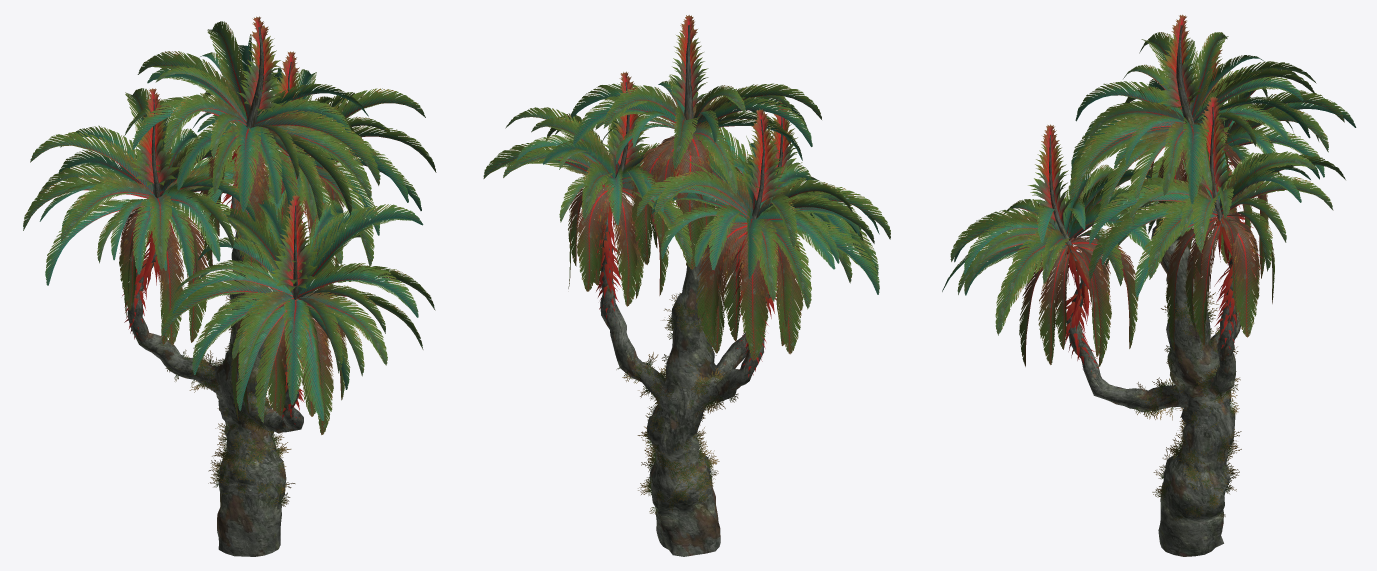
File: Plant - Alien Plant 12-CmQEIoSL.glb
The picture shows the model from 3 angles, left to right: view 1: azimuth 30°, elevation 25°; view 2: azimuth 150°, elevation 25°; view 3: azimuth 270°, elevation 25°; orthographic projection.
Parts seen in each view (by area): view 1: Plant12(Clone), Plant12_moss(Clone); view 2: Plant12(Clone), Plant12_moss(Clone); view 3: Plant12(Clone), Plant12_moss(Clone).
Part boxes in pixels (x1,y1,x2,y2): Plant12(Clone): (23, 16, 436, 556); Plant12_moss(Clone): (165, 294, 295, 506); Plant12(Clone): (483, 15, 890, 556); Plant12_moss(Clone): (616, 293, 738, 514); Plant12(Clone): (942, 14, 1356, 556); Plant12_moss(Clone): (1134, 291, 1241, 520).
Bounding box in the file's own units: 11.51 × 14.85 × 11.01.
Materials: 3 (3 with a texture image).
